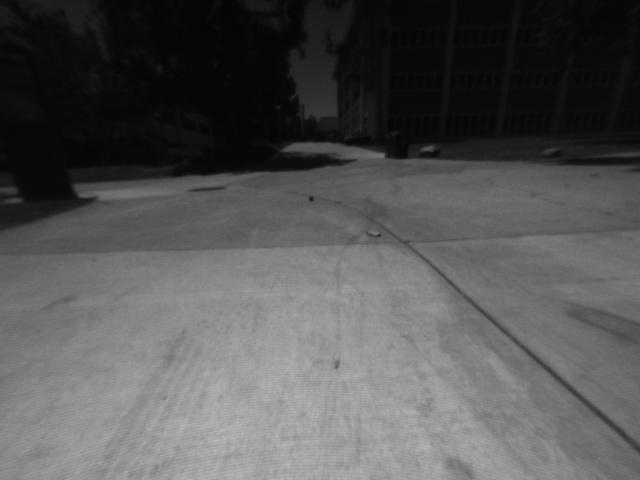dogtoy: (305, 191, 319, 205)
